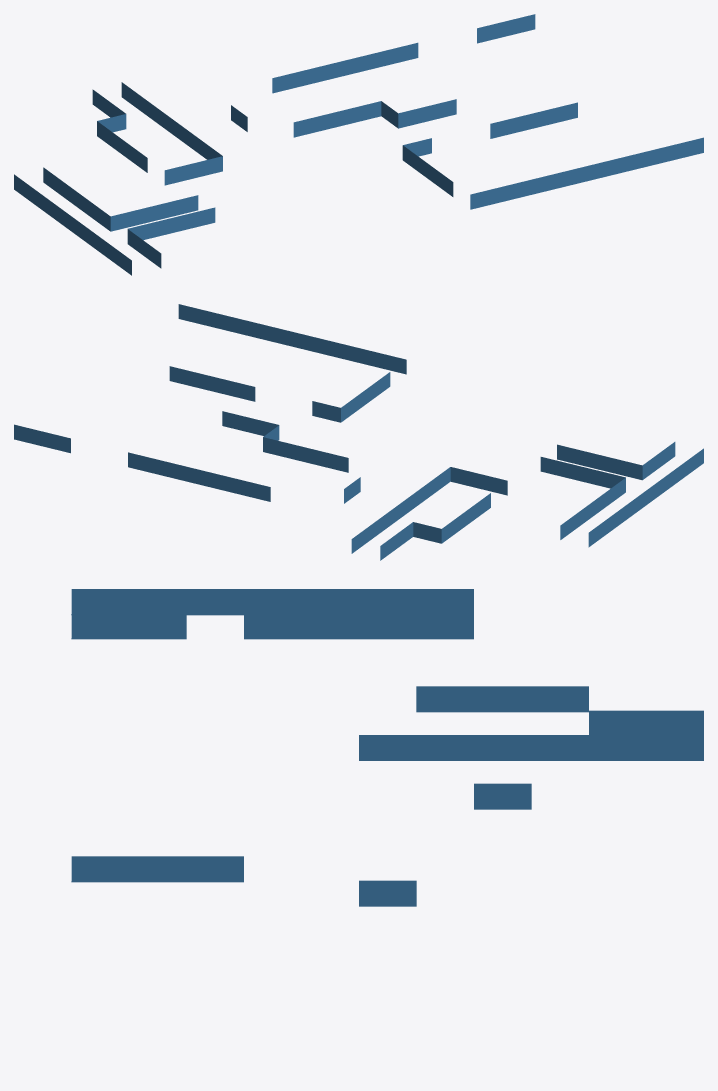
The model's file is Level-paredea.fbx.
3 renders of one model, top to bottom at view 1: azimuth 30°, elevation 25°; view 2: azimuth 150°, elevation 25°; view 3: azimuth 270°, elevation 25°, orthographic. The views are drawn at different scales.
Parts seen in each view (by area): view 1: Layout_004-Paredes; view 2: Layout_004-Paredes; view 3: Layout_004-Paredes.
Part boxes in pixels (x1,y1,x2,y2): Layout_004-Paredes: [14, 14, 703, 275]; Layout_004-Paredes: [14, 304, 703, 560]; Layout_004-Paredes: [71, 589, 703, 906].
Size of the model in its own units: 1900 by 50 by 1200.
